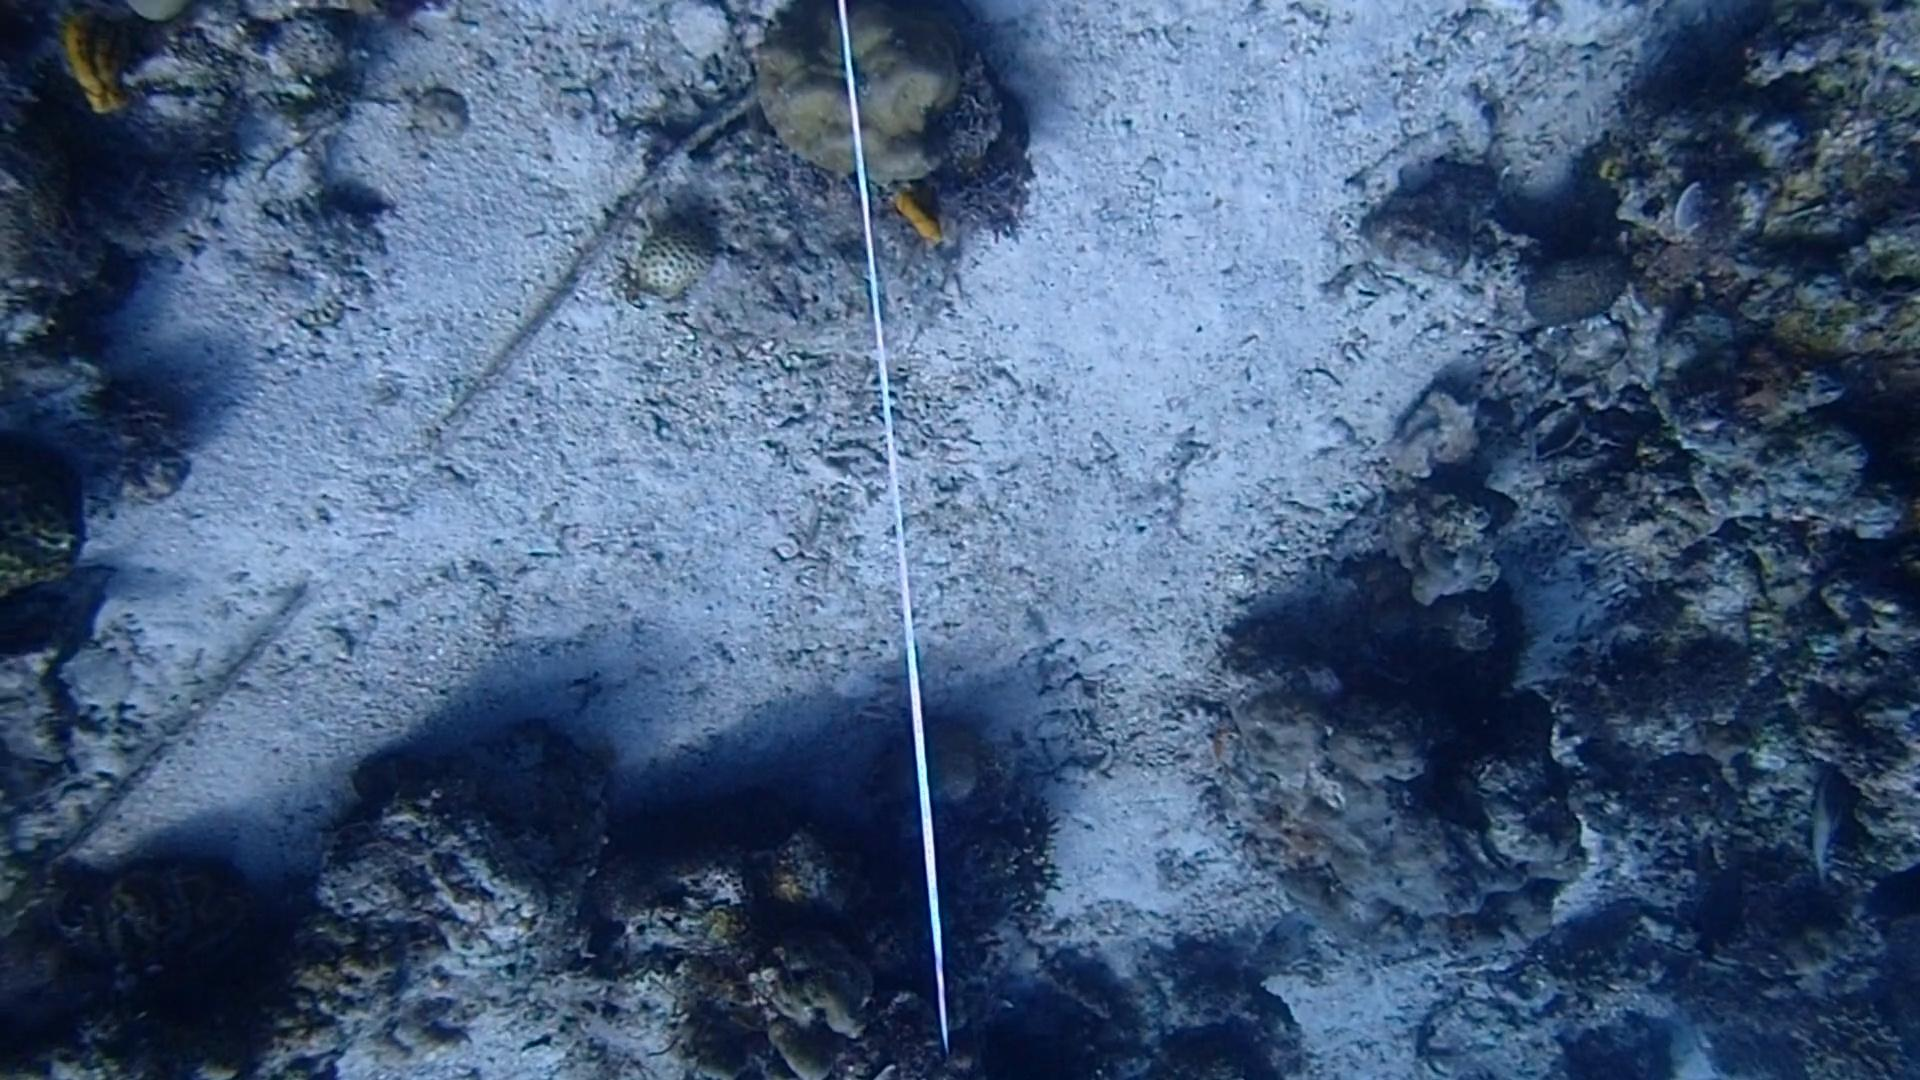Dark Fish: (1677, 862, 1758, 967)
